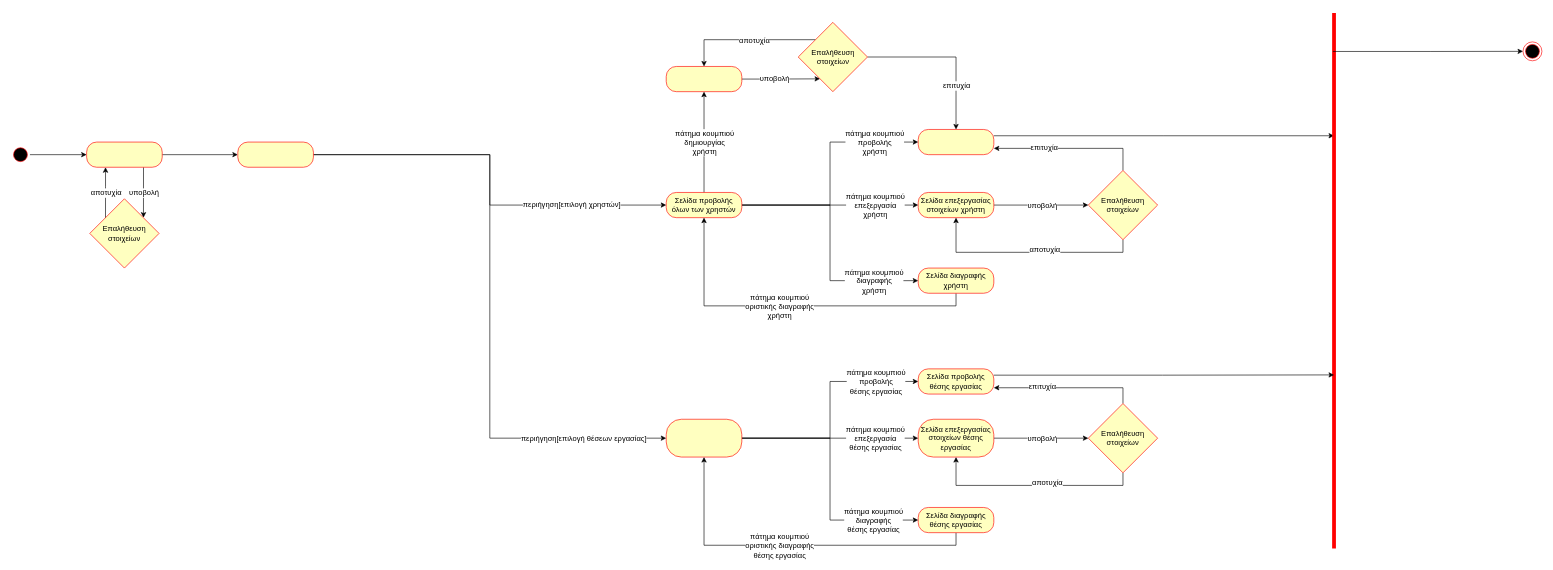
The diagram is 1553 pixels wide and 570 high, and some of its shapes have lost their labels. The box of each missing label's shape, as (x1, y1, x2, y2) in pixels:
Επισκόπηση στοιχείων χρήστη: (237, 141, 313, 167)
Σελίδα δημιουργίας χρήστη: (666, 66, 742, 92)
Σελίδα προβολής χρήστη: (918, 129, 994, 155)
Σελίδα προβολής όλων των θέσεων εργασίας: (666, 419, 742, 457)
Φόρμα σύνδεσης: (86, 141, 162, 167)
